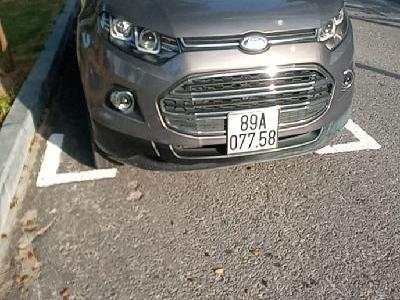lisence: (225, 106, 281, 156)
